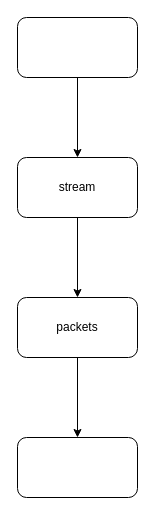
Image size: 155x515. Some labels were removed from this diagram. Here are the shapes that lost their labels. From the top down, the centre of each, then its label:
At (77,47): "connection".
At (77,467): "frames".
